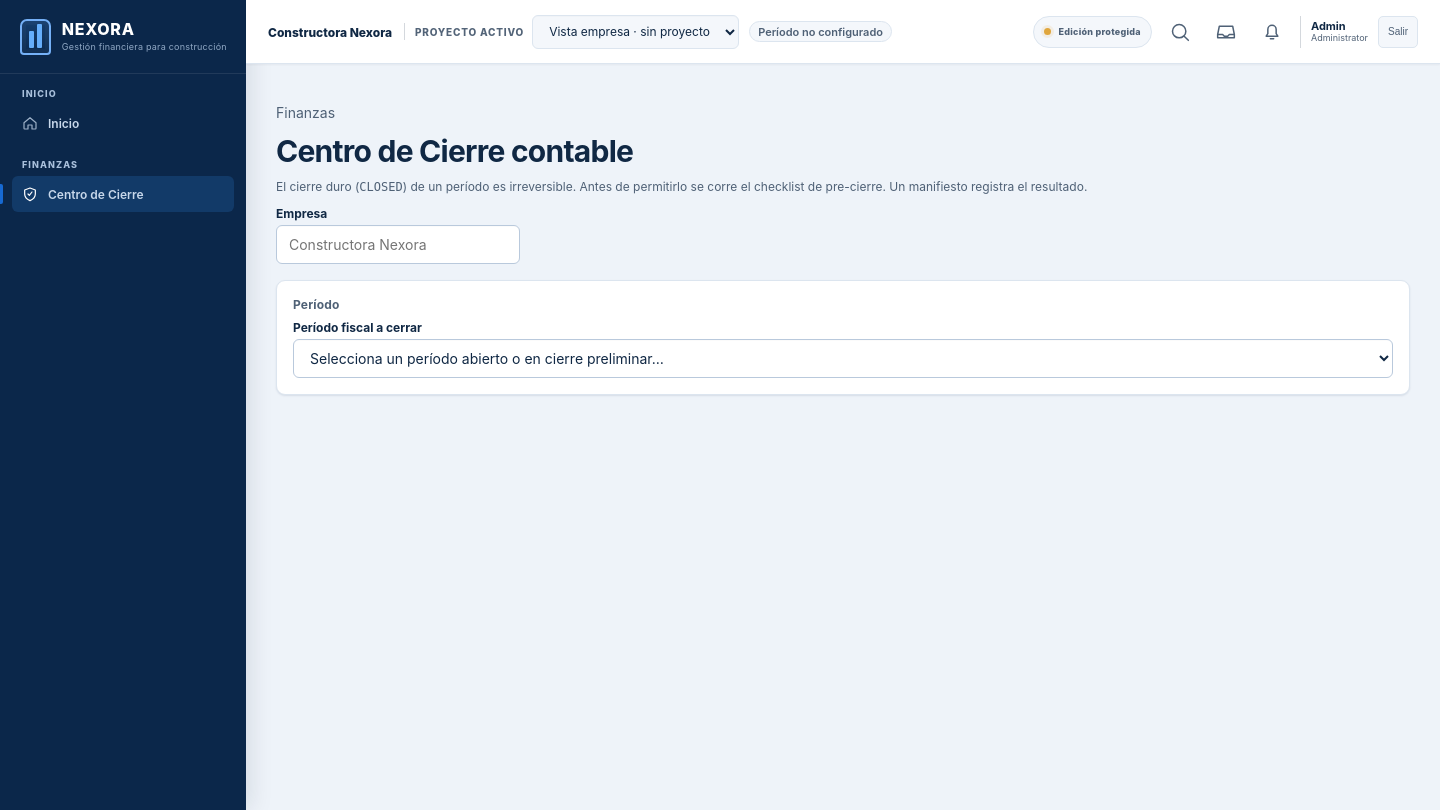
Test: ClosingCenterPage › allows hard close when every blocking check passes
Step 1. Select "P08 · 2026-08-01 → 2026-08-31 · OPEN" in the dropdown labelled "Período fiscal a cerrar" → (843, 359), box [293, 339, 1393, 378]
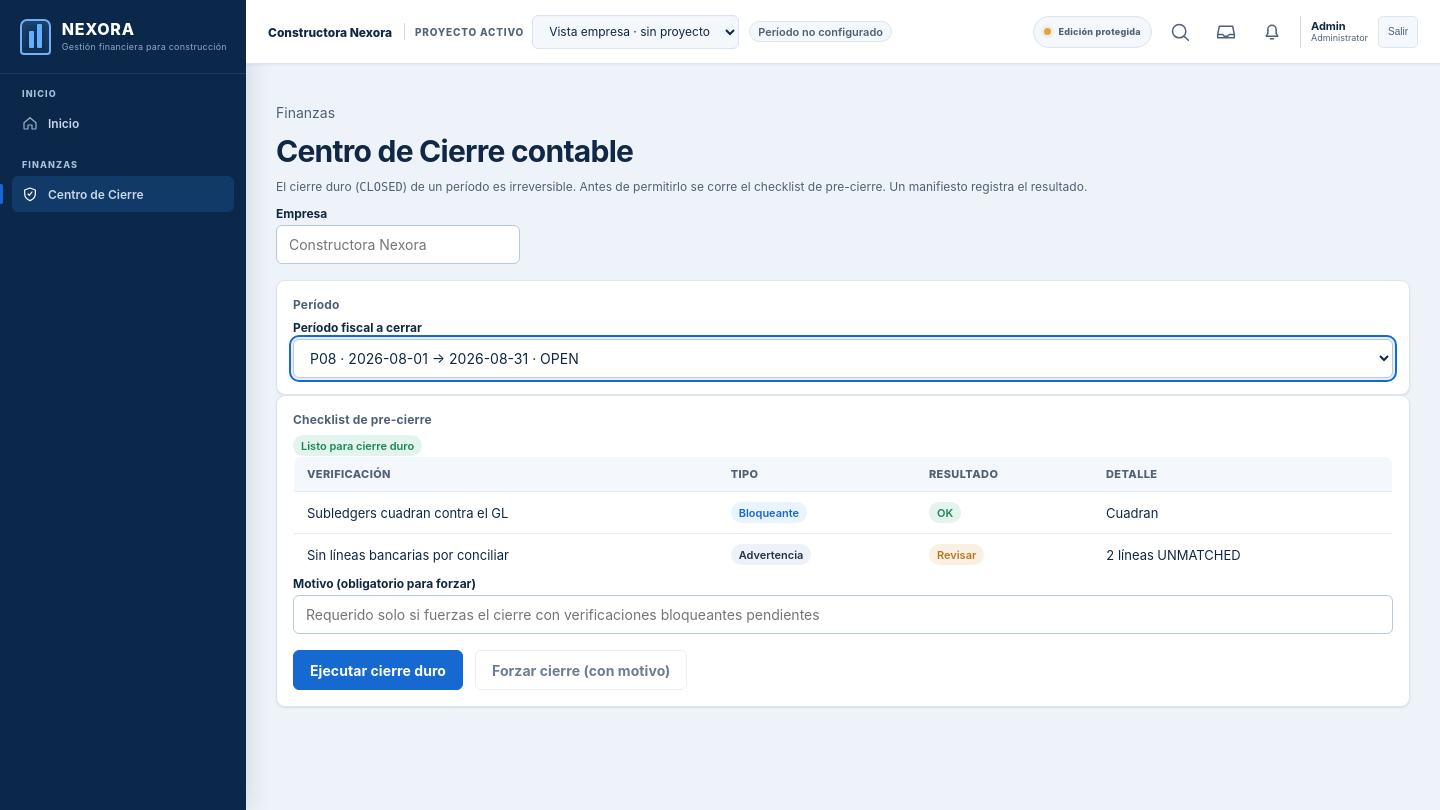
Expected: the text "Listo para cierre duro" is shown, [293, 435, 422, 456]
Expected: the button "Ejecutar cierre duro" is enabled
Step 2. Click the button "Ejecutar cierre duro" → (378, 670), box [293, 650, 463, 690]
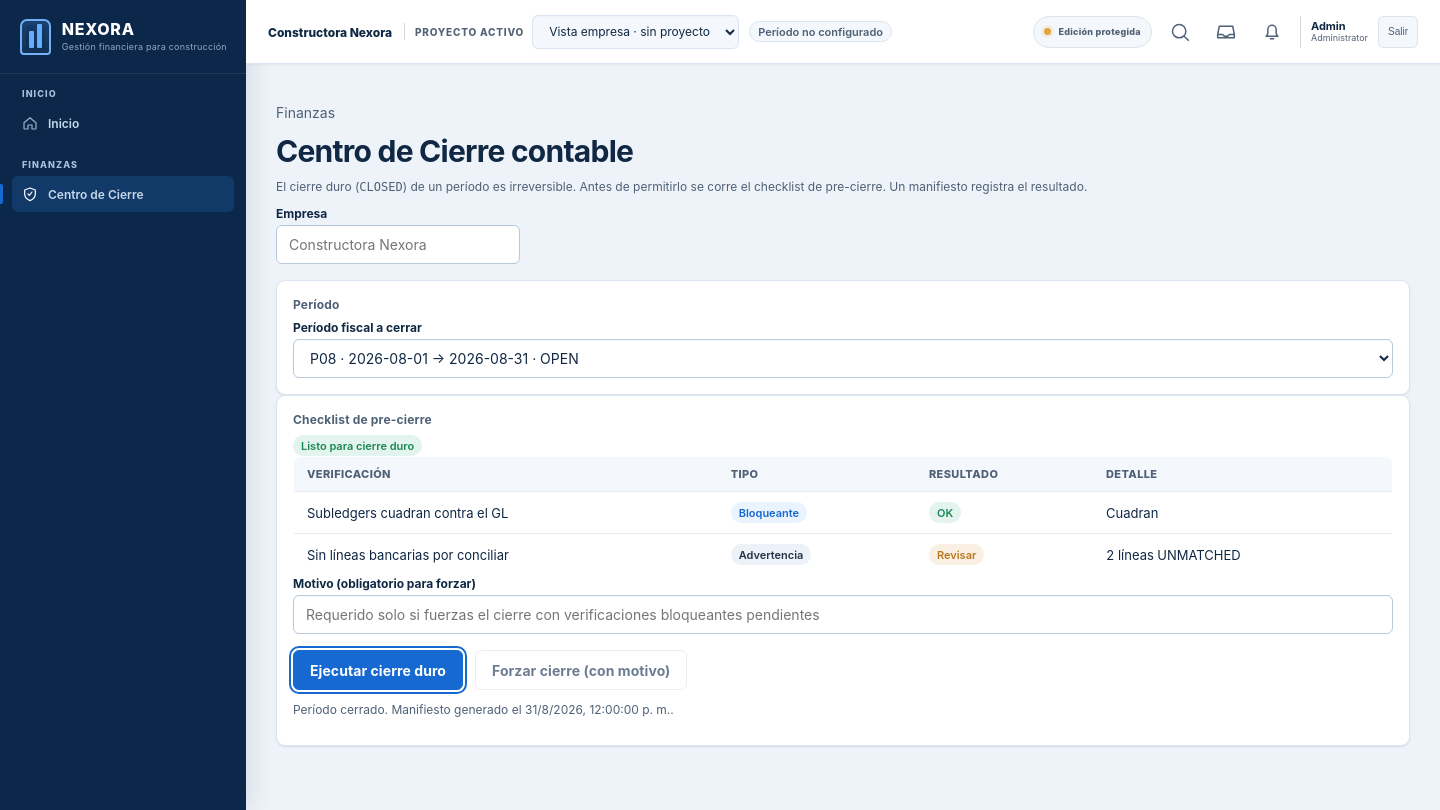
Expected: the text "Período cerrado. Manifiesto generado el 31/8/2026, 12:00:00 p. m.." is shown, [293, 702, 674, 717]
